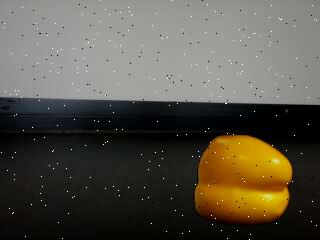Capsicum: (194, 135, 293, 228)
